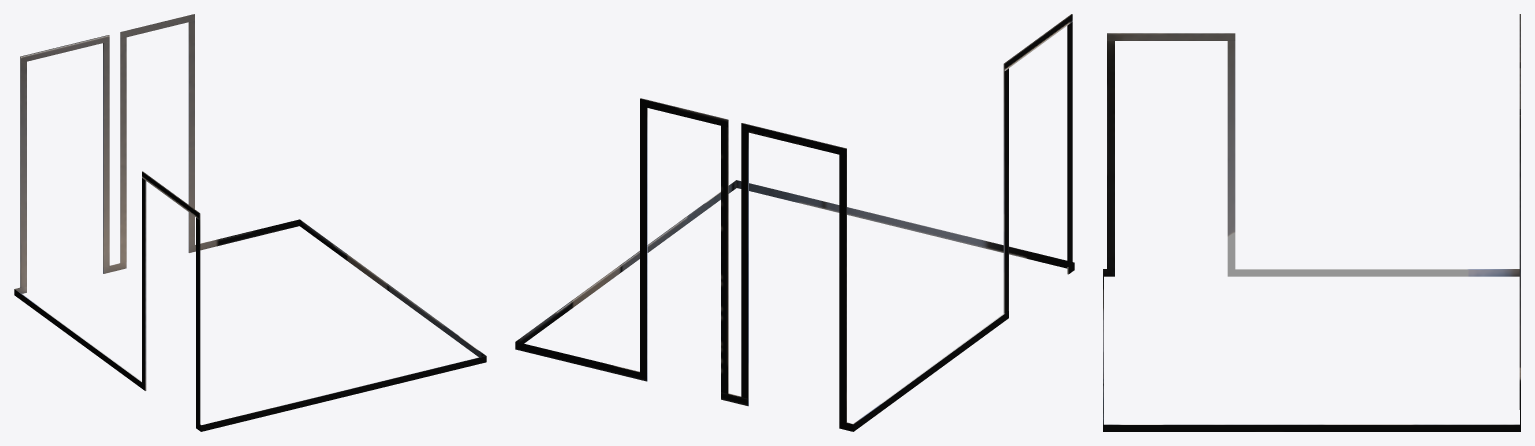
3 renders of one model, left to right at view 1: azimuth 30°, elevation 25°; view 2: azimuth 150°, elevation 25°; view 3: azimuth 270°, elevation 25°, orthographic. The views are drawn at different scales.
Parts seen in each view (by area): view 1: Plane.011; view 2: Plane.011; view 3: Plane.011.
Boxes of the visible parts, x1,y1,x2,y2 form: Plane.011: (14, 14, 486, 431); Plane.011: (515, 14, 1074, 431); Plane.011: (1103, 14, 1520, 431).
Bounding box in the file's own units: 2.98 × 2.36 × 3.37.
Materials: 1 (1 with a texture image).
